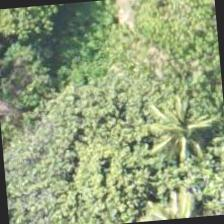Kelapa_Sawit: (134, 79, 223, 177)
